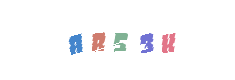3: (92, 0, 172, 80)
5: (80, 0, 160, 80)
A: (68, 0, 148, 80)
K: (92, 0, 172, 80)
R: (77, 0, 157, 80)
